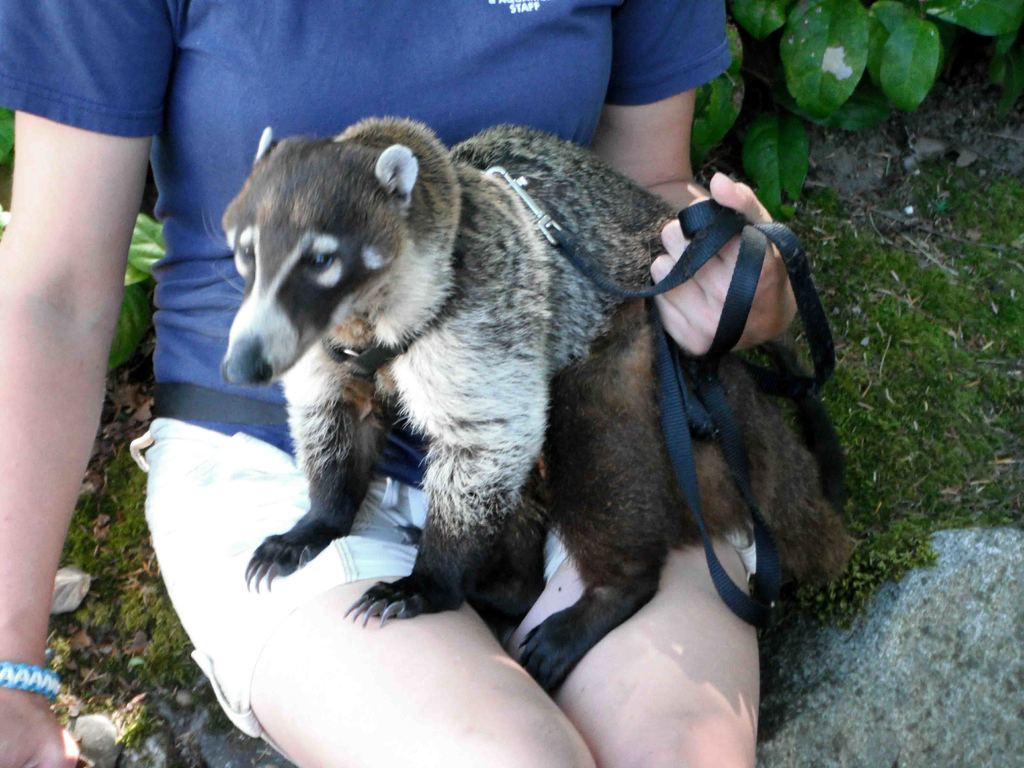raccoon: (222, 117, 850, 690)
